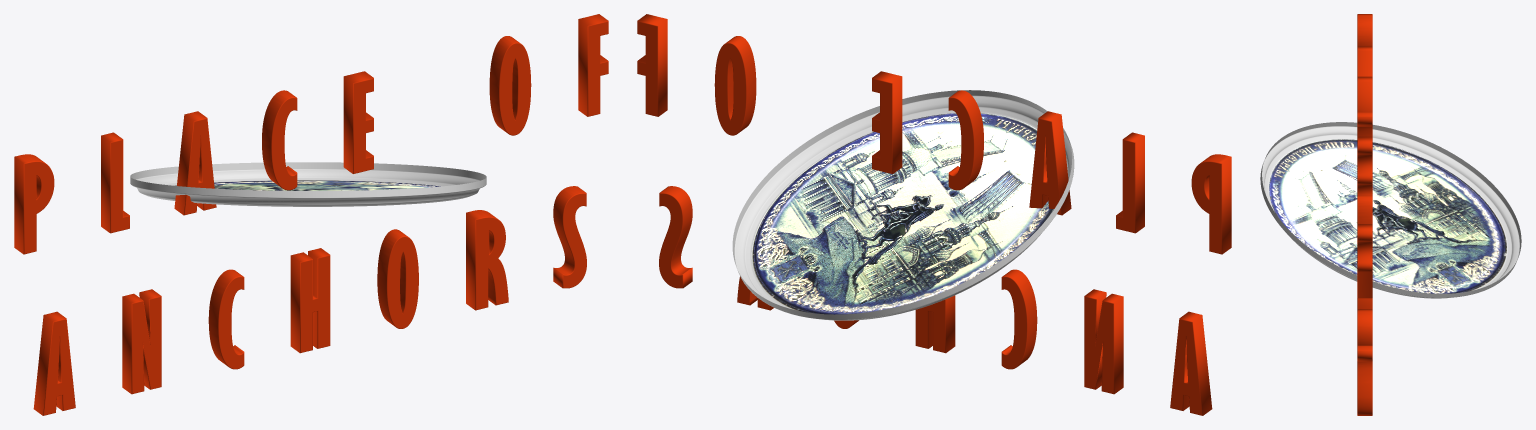
Rendered from Mirror_anim_v1.glb.
3 renders of one model, left to right at view 1: azimuth 30°, elevation 25°; view 2: azimuth 150°, elevation 25°; view 3: azimuth 270°, elevation 25°, orthographic. The views are drawn at different scales.
Parts seen in each view (by area): view 1: Text, Cylinder.001; view 2: Cylinder.001, Text; view 3: Cylinder.001, Text.
Part boxes in pixels (<box>): Text: <box>14,14,608,415</box>; Cylinder.001: <box>130,162,486,206</box>; Cylinder.001: <box>732,90,1074,320</box>; Text: <box>637,14,1231,415</box>; Cylinder.001: <box>1260,122,1521,298</box>; Text: <box>1357,14,1372,415</box>.
Size of the model in its own units: 1.33 by 0.5604 by 0.6719.
Materials: 3 (1 with a texture image).
